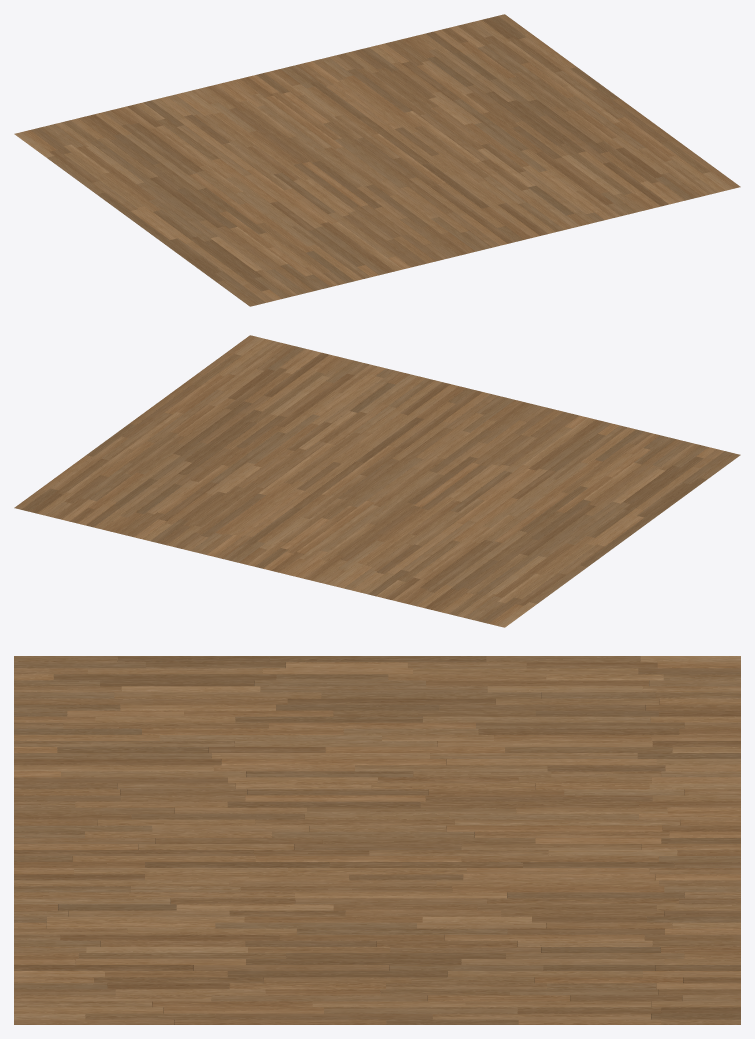
File: hardwood-floor.glb
3 renders of one model, top to bottom at view 1: azimuth 30°, elevation 25°; view 2: azimuth 150°, elevation 25°; view 3: azimuth 270°, elevation 25°, orthographic. The views are drawn at different scales.
Parts seen in each view (by area): view 1: Satin Australian hardwood; view 2: Satin Australian hardwood; view 3: Satin Australian hardwood.
Part boxes in pixels (<box>): Satin Australian hardwood: <box>14,14,740,306</box>; Satin Australian hardwood: <box>14,335,740,627</box>; Satin Australian hardwood: <box>14,656,740,1024</box>.
Size of the model in its own units: 8.4 by 0.00045 by 7.
1 material, 1 textured.
